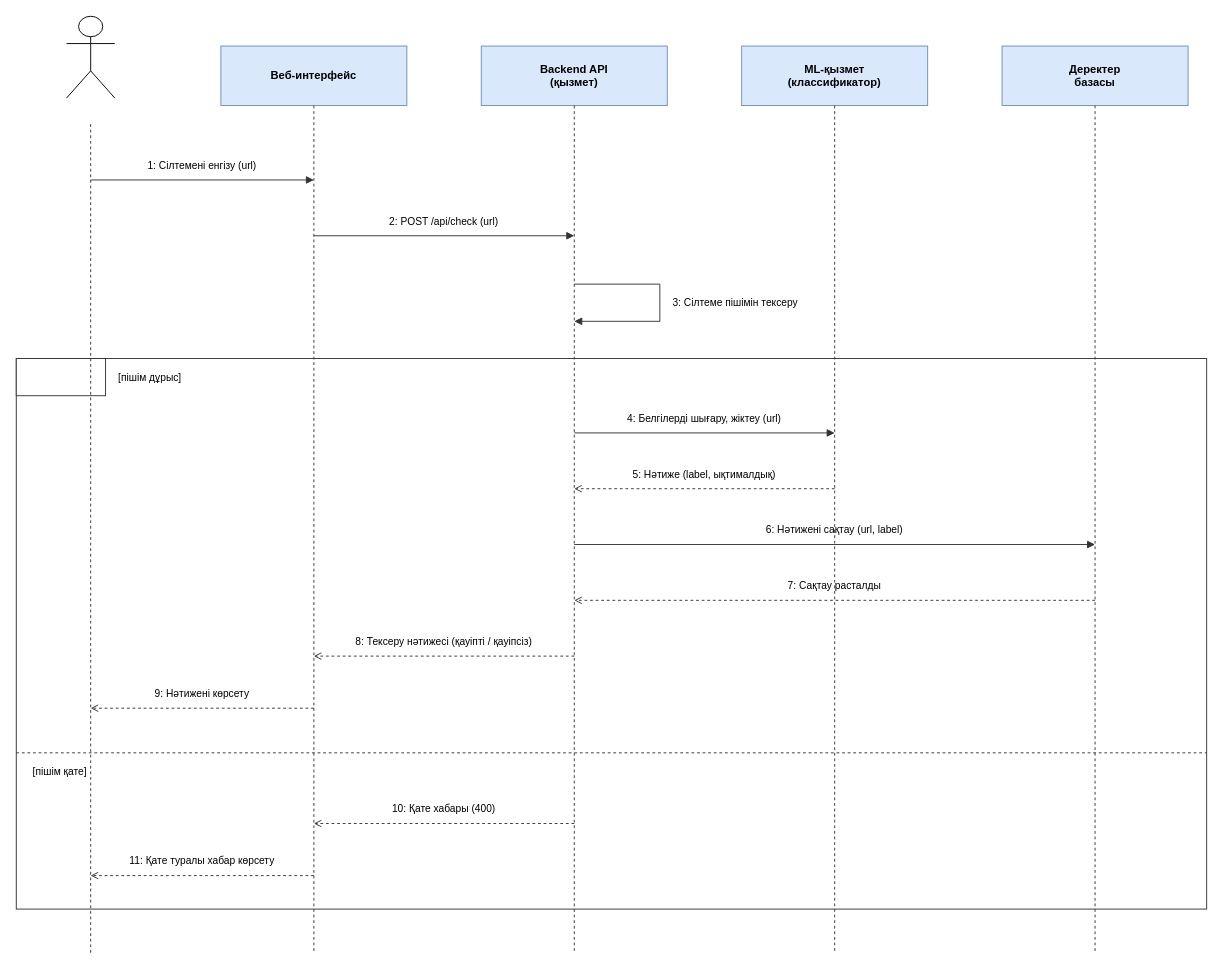
This 1224x971 diagram has some shape labels left out. The shapes that lost their labels are listed below. From the top down, each one's centre as x and y in pixels, then its label:
the point at 90,56: Пайдаланушы
the point at 60,377: alt
